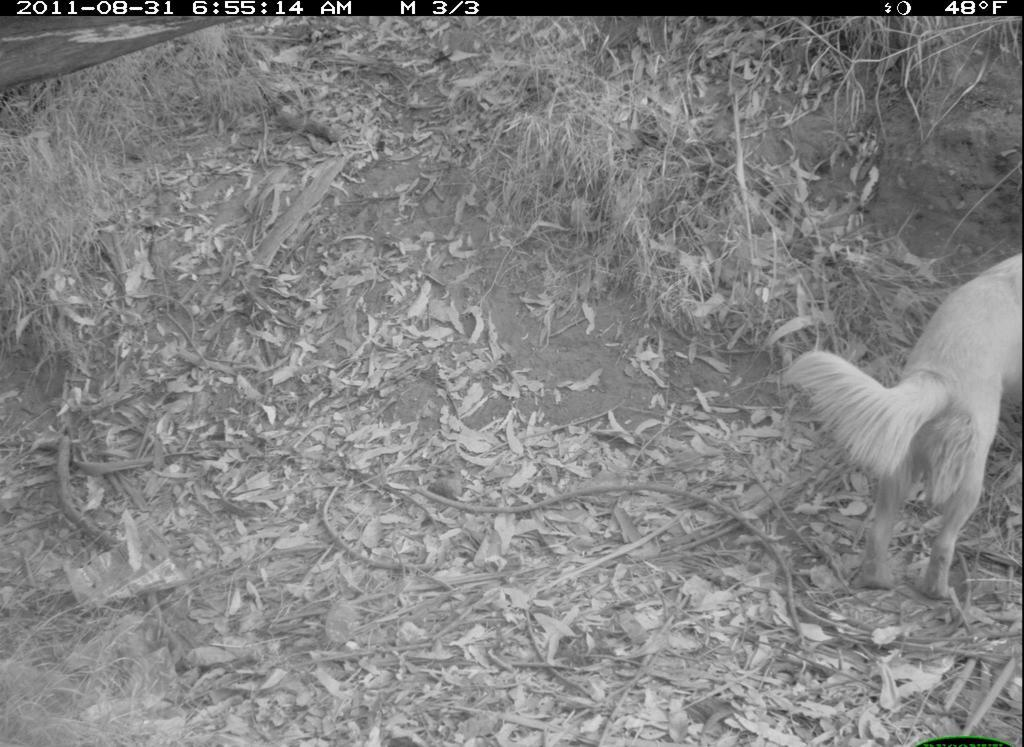dog: (777, 242, 1023, 605)
